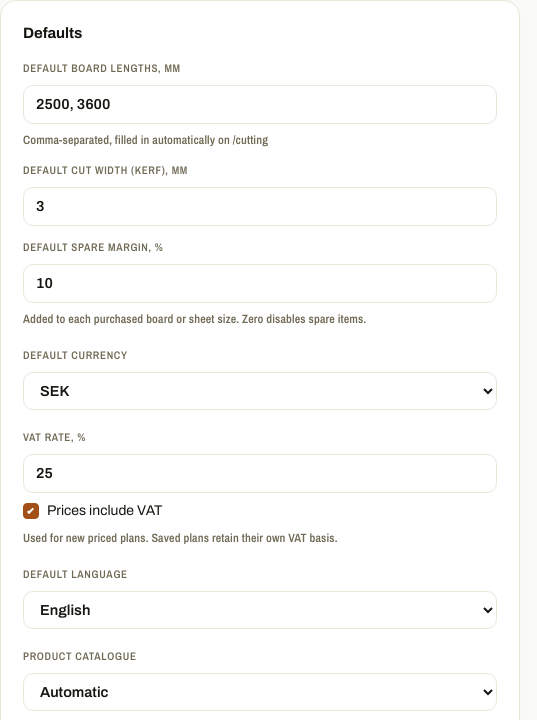
Test: UserSettings › saves the edited defaults
Replace the text in the field labelled "Default board lengths, mm" with "3000, 4200" at (260, 104), box [23,85,497,124]
(page scrolled)
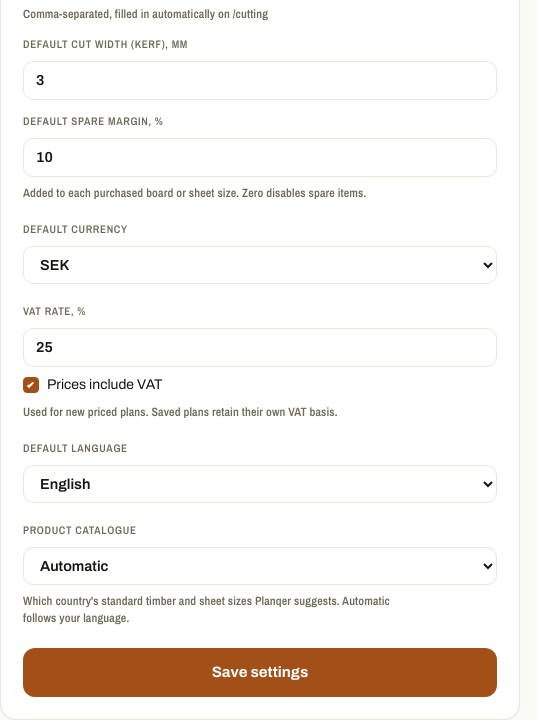
Click the button "Save settings".
click(260, 672)  # box [23,648,497,697]
(page scrolled)
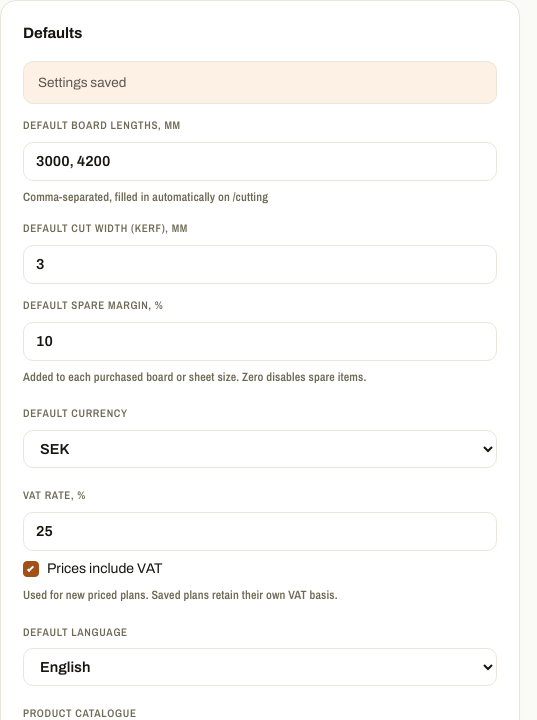
Now the text "Settings saved" is shown, box [23,61,497,104]
